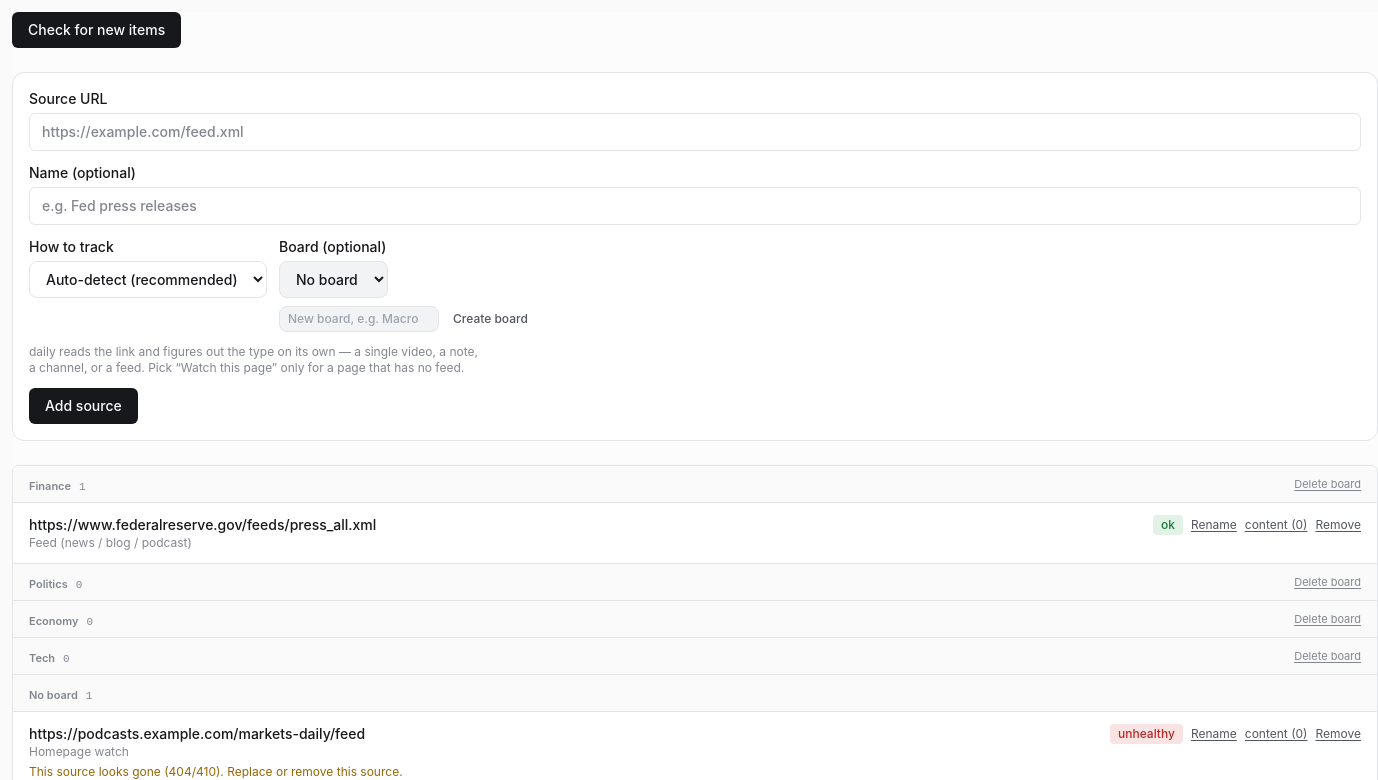
Scenario: TrackingView › surfaces per-item ingestion failures with a typed reason (M13.1, paste path retired by M16.1)
Click the button "Check for new items" at (97, 30), box x1=12 y1=12 x2=181 y2=48
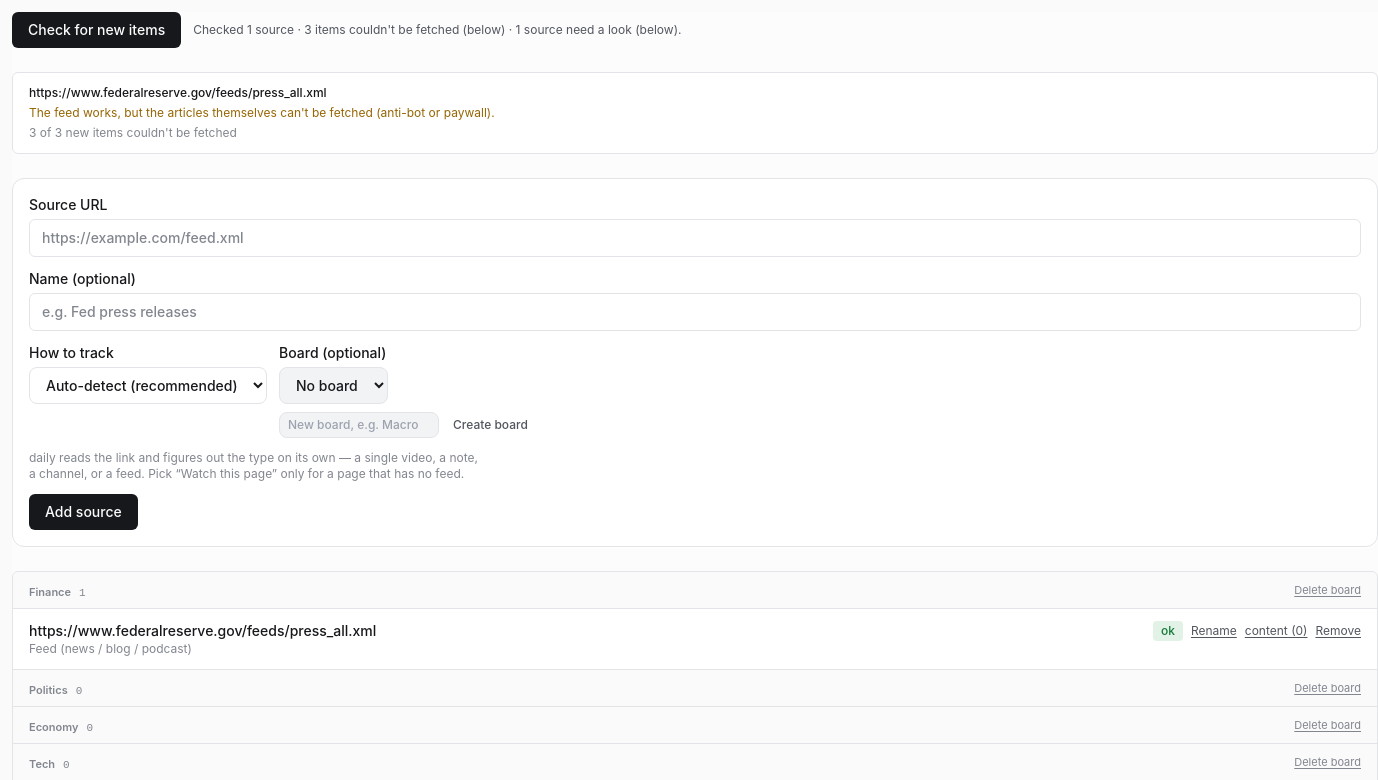
Result: the message shows "3 items couldn't be fetched (below)" at x1=193 y1=22 x2=682 y2=37
Result: the list named "Sources this check flagged" shows "https://www.federalreserve.gov/feeds/press_all.xml" at x1=29 y1=85 x2=327 y2=100
Result: the list named "Sources this check flagged" shows "articles themselves can't be fetched" at x1=29 y1=105 x2=495 y2=120
